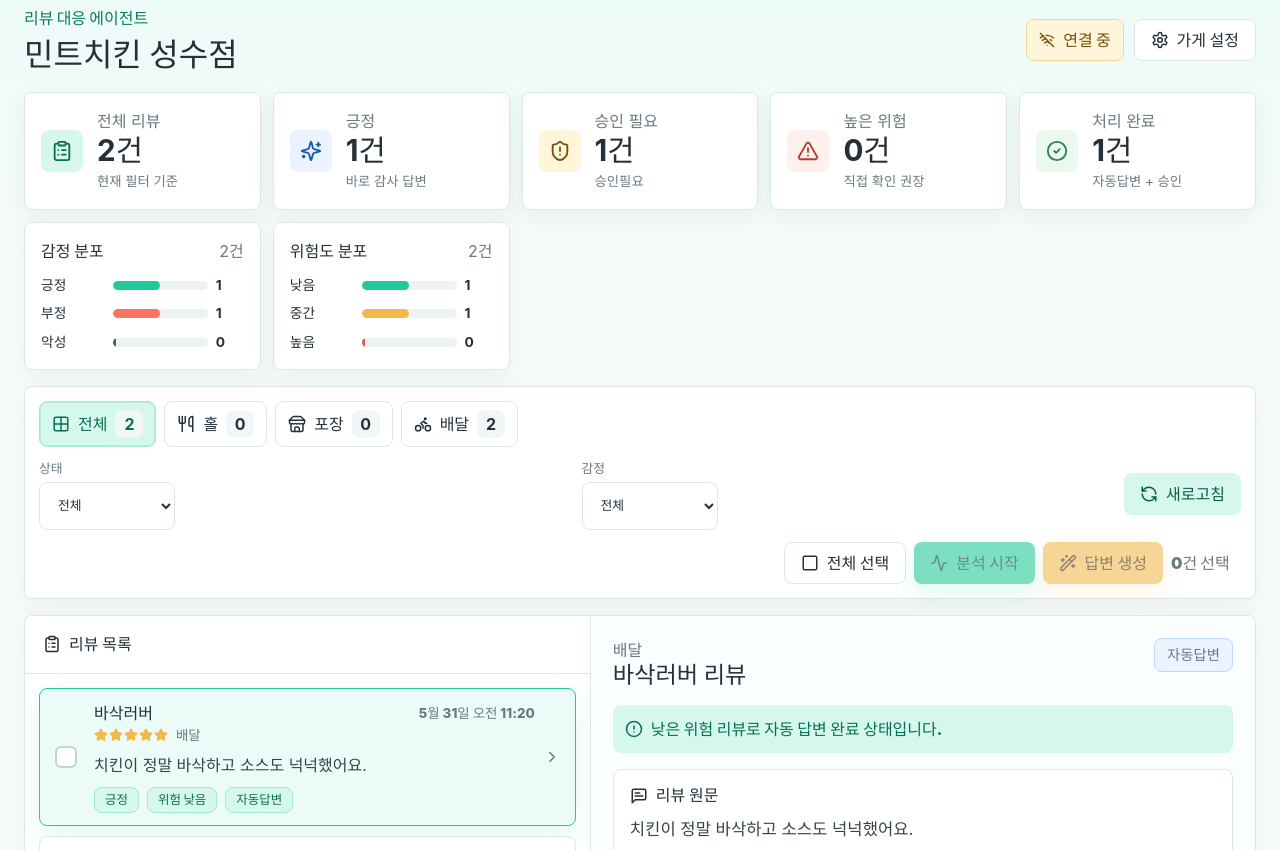
Test: Review helper SPA › dashboard can select visible reviews and request batch analysis
The image size is (1280, 850).
Check: the heading "민트치킨 성수점" is shown, box top-left (24, 36), bottom-right (238, 74)
Click the button "전체 선택".
click(845, 563)  # box top-left (784, 542), bottom-right (906, 584)
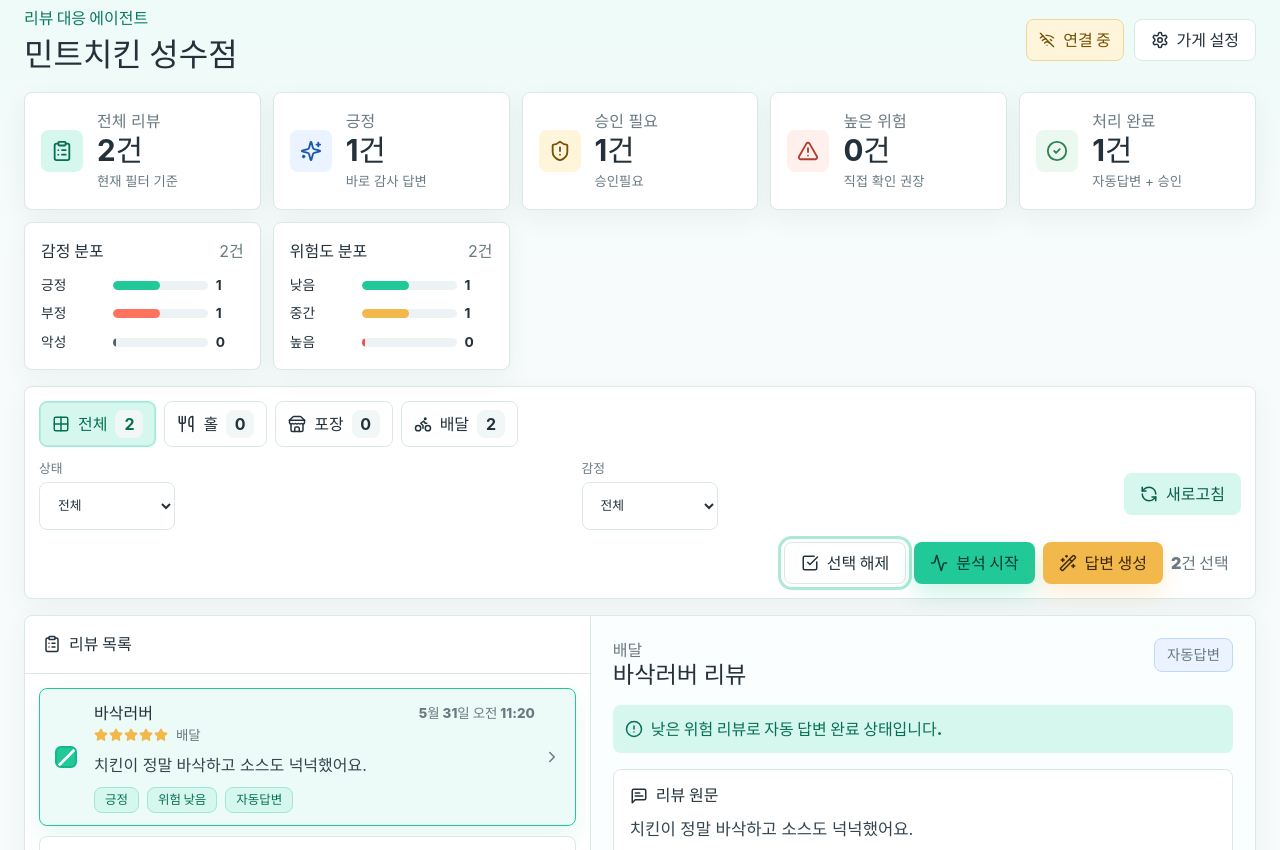
Click the button "분석 시작".
click(974, 563)  # box top-left (914, 542), bottom-right (1035, 584)
(page scrolled)
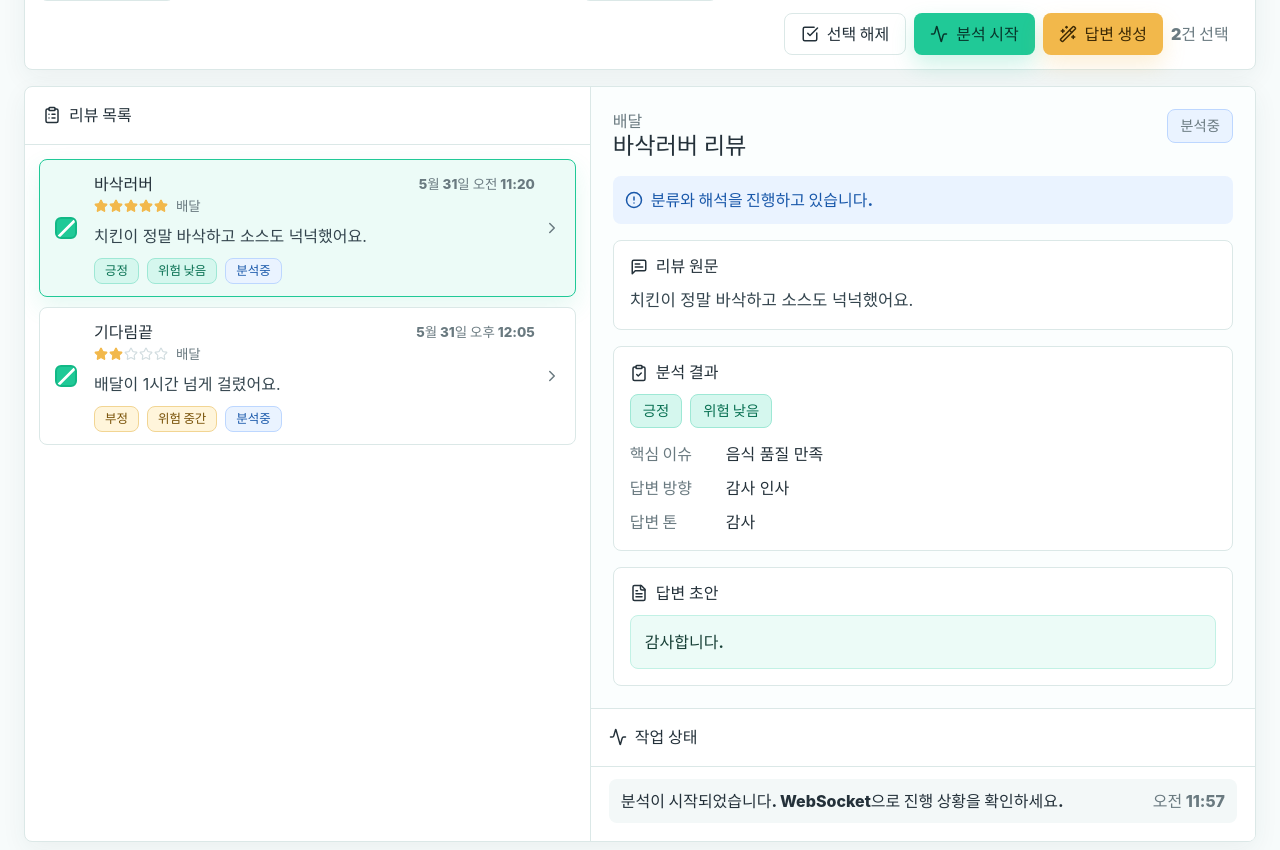
Check: the text "분석이 시작되었습니다. WebSocket으로 진행 상황을 확인하세요." is shown, box top-left (621, 789), bottom-right (1064, 813)
